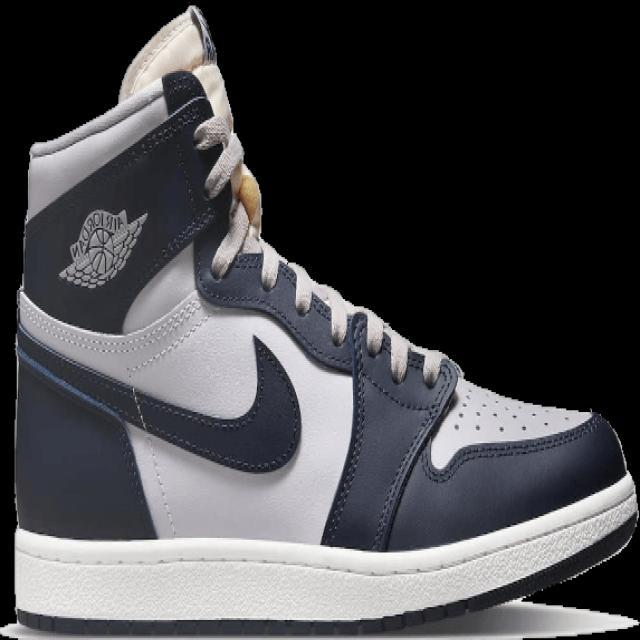J1_InsoleChar: (6, 4, 637, 636)
J1_ShoeLogo: (21, 68, 244, 330), (57, 205, 148, 290)
J1_StitchPattern: (15, 282, 602, 548), (119, 66, 448, 388), (10, 484, 637, 632), (211, 238, 598, 462), (15, 289, 302, 475), (15, 326, 180, 538), (222, 240, 450, 387), (319, 314, 459, 551), (15, 286, 209, 376), (319, 310, 371, 548), (123, 383, 181, 540), (124, 296, 209, 378), (209, 161, 264, 279), (455, 394, 540, 436)
